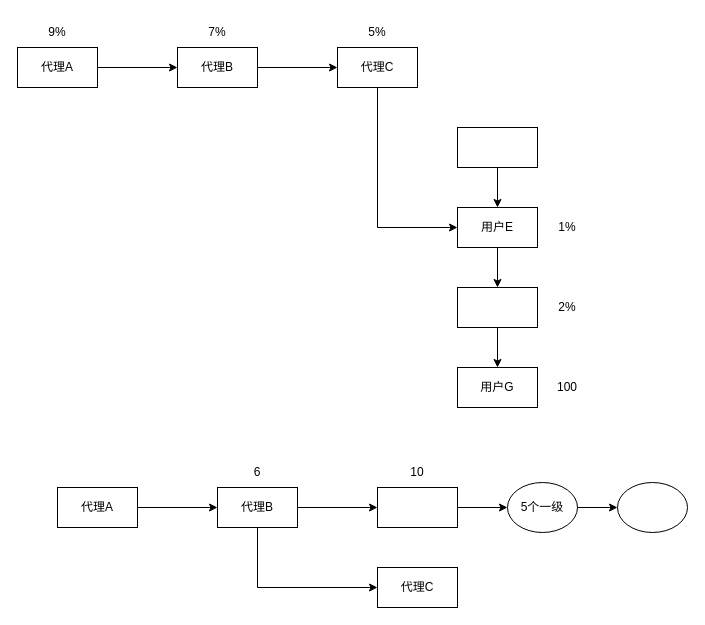
This 705x625 diagram has some shape labels left out. The centre of each missing label's shape, as x and y in pixels:
"5个二级" goes at [652,507].
"用户C" goes at [417,507].
"用户D" goes at [497,147].
"用户F" goes at [497,307].
